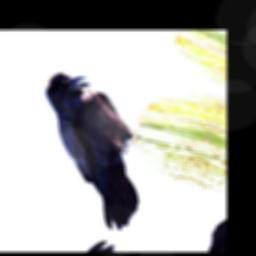Crow: (2, 67, 179, 234)
